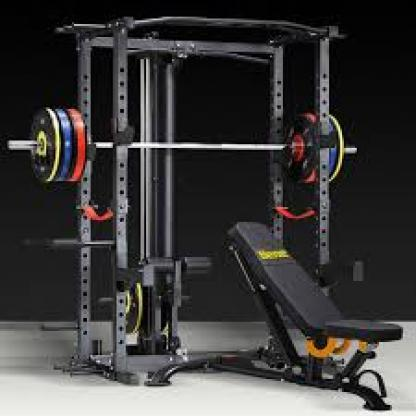smith machine: (10, 14, 403, 411)
